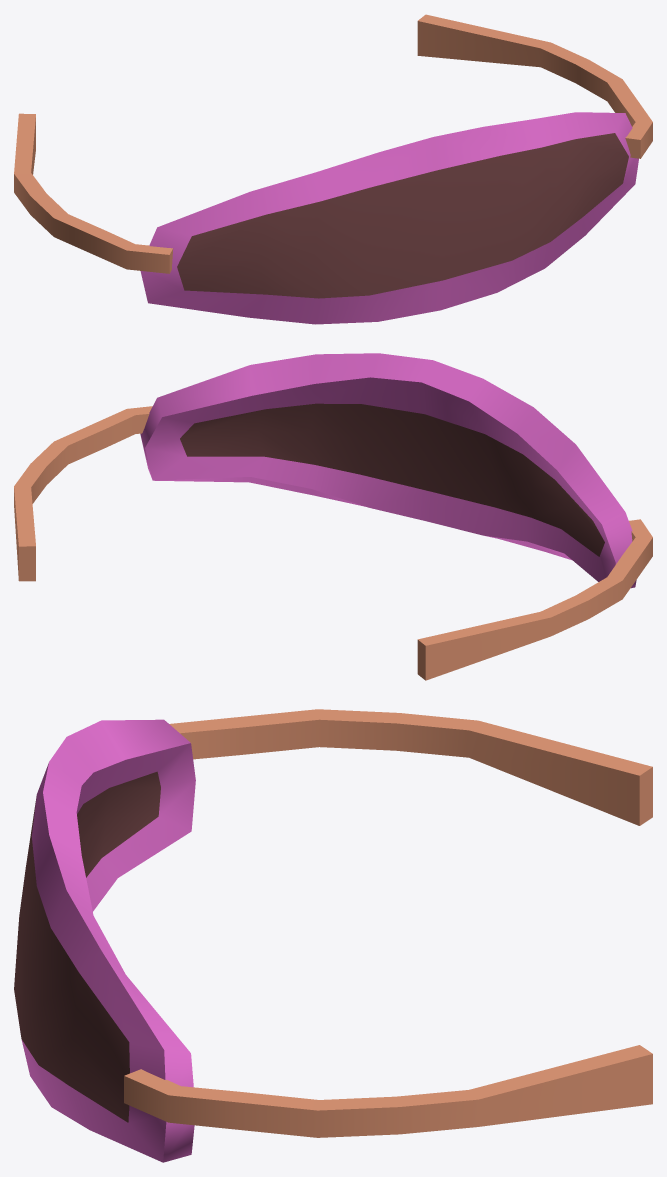
File: Glasses_04.fbx
3 views of the same model, one above another, from view 1: azimuth 30°, elevation 25°; view 2: azimuth 150°, elevation 25°; view 3: azimuth 270°, elevation 25° (orthographic). The views are drawn at different scales.
Visible parts, largest first — view 1: Glasses_04.c, Glasses_stick_29, Glasses_stick_30; view 2: Glasses_04.c, Glasses_stick_30, Glasses_stick_29; view 3: Glasses_04.c, Glasses_stick_29, Glasses_stick_30.
Boxes of the visible parts, x1,y1,x2,y2 form: Glasses_04.c: [140, 112, 638, 324]; Glasses_stick_29: [417, 14, 652, 158]; Glasses_stick_30: [14, 113, 173, 273]; Glasses_04.c: [140, 353, 636, 588]; Glasses_stick_30: [417, 519, 652, 680]; Glasses_stick_29: [14, 406, 152, 581]; Glasses_04.c: [14, 719, 195, 1162]; Glasses_stick_29: [124, 1045, 652, 1137]; Glasses_stick_30: [169, 709, 652, 825].
Bounding box in the file's own units: 0.76 × 0.2142 × 0.5114.
